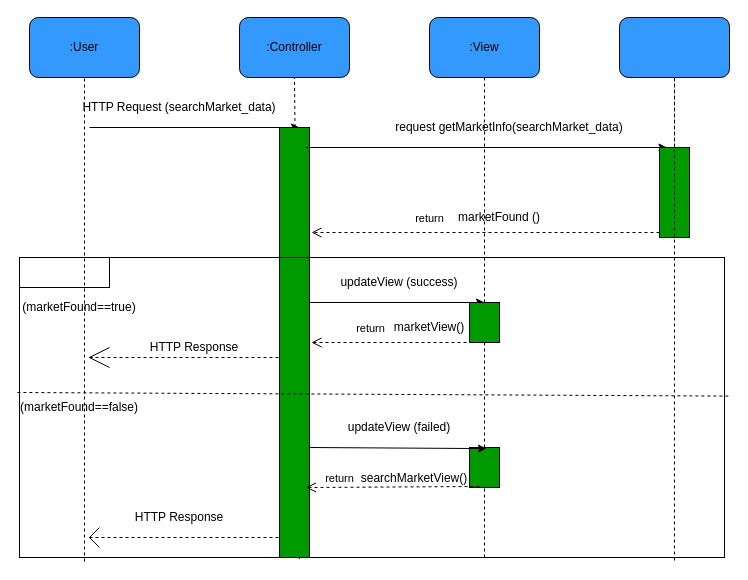
Image size: 748x580. Some labels were removed from this diagram. The shapes that lost their labels are listed below. From the top down, each one's box as (x1, y1, x2, y2) in pixels, then its label:
(618, 16, 730, 78): :Model
(18, 256, 110, 288): alt
